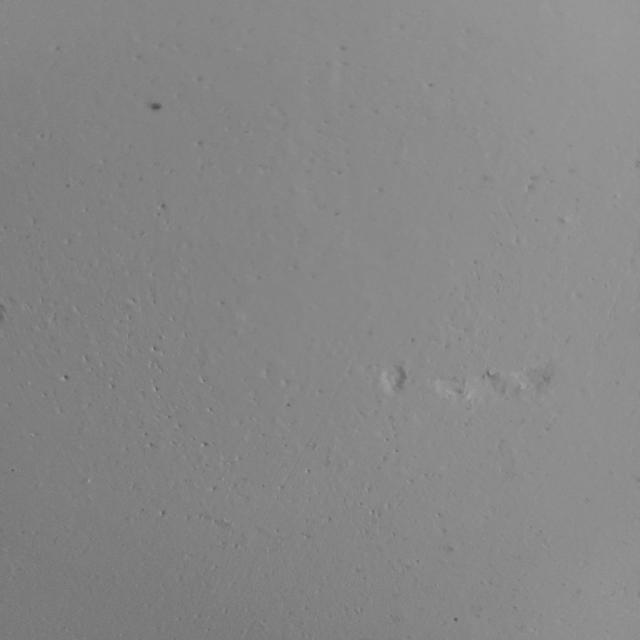rough and patchy surface: (4, 4, 578, 640)
